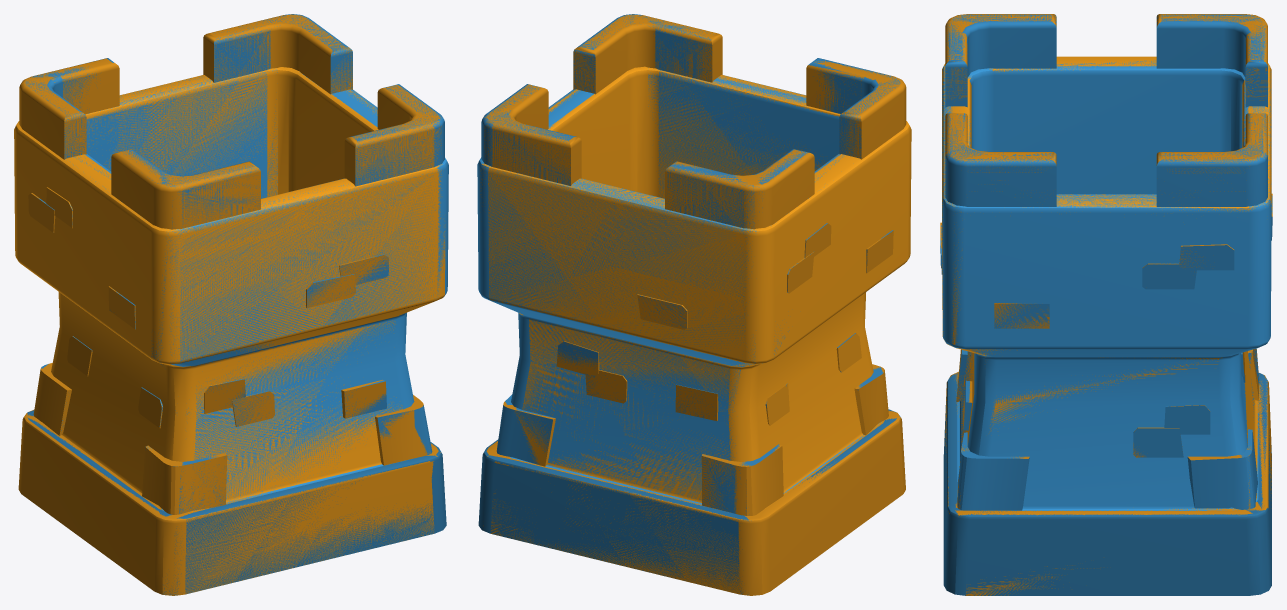
Rendered from Castle_01.fbx.
3 renders of one model, left to right at view 1: azimuth 30°, elevation 25°; view 2: azimuth 150°, elevation 25°; view 3: azimuth 270°, elevation 25°, orthographic. The views are drawn at different scales.
Parts seen in each view (by area): view 1: Castle_01, Castle_03; view 2: Castle_01, Castle_03; view 3: Castle_03, Castle_01.
Part boxes in pixels (bbox=[...]): Castle_01: bbox=[14, 14, 445, 595]; Castle_03: bbox=[25, 14, 448, 595]; Castle_01: bbox=[480, 14, 911, 595]; Castle_03: bbox=[477, 14, 900, 594]; Castle_03: bbox=[940, 14, 1272, 595]; Castle_01: bbox=[940, 14, 1272, 595].
Bounding box in the file's own units: 1.53 × 2.01 × 1.39.
